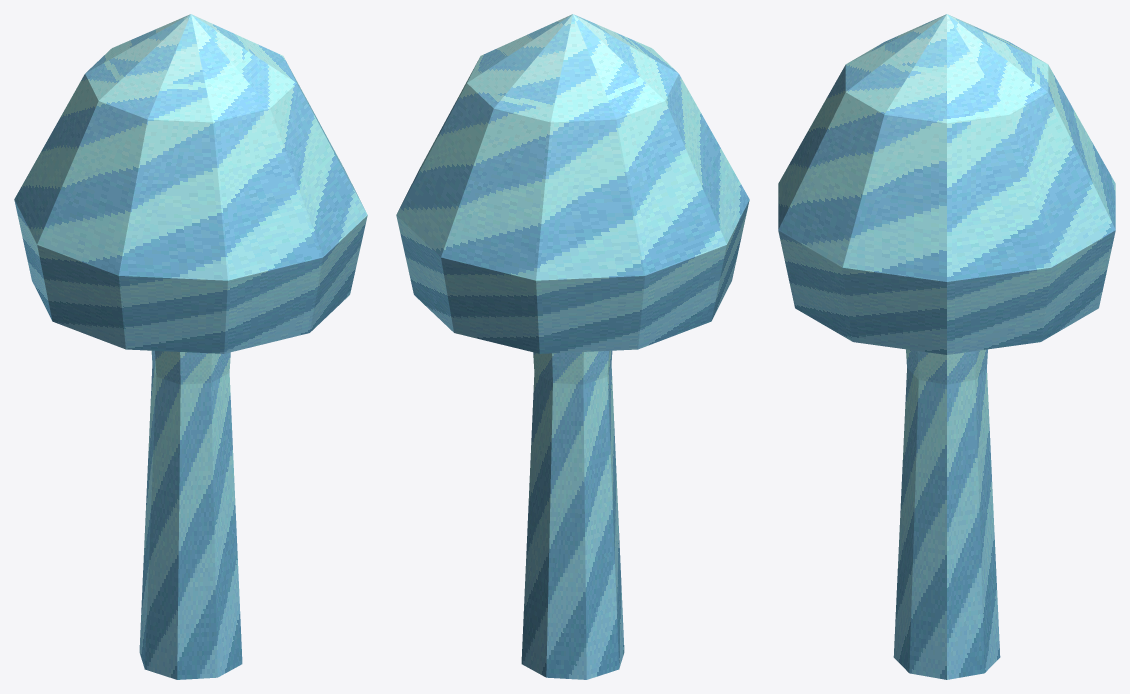
File: capuz_de_cristal.glb
3 views of the same model, side by side, from view 1: azimuth 30°, elevation 25°; view 2: azimuth 150°, elevation 25°; view 3: azimuth 270°, elevation 25° (orthographic).
Visible parts, largest first — view 1: capuz_de_cristal; view 2: capuz_de_cristal; view 3: capuz_de_cristal.
Part boxes in pixels (x1=…): capuz_de_cristal: x1=14, y1=14, x2=367, y2=679; capuz_de_cristal: x1=396, y1=14, x2=749, y2=679; capuz_de_cristal: x1=778, y1=14, x2=1115, y2=679.
Bounding box in the file's own units: 0.38 × 0.76 × 0.3614.
1 material, 1 textured.
